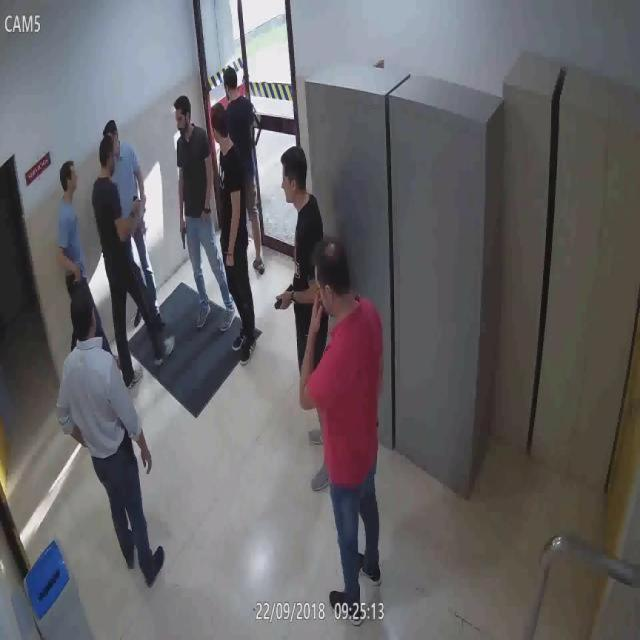pistol: (272, 283, 296, 314), (121, 420, 135, 458), (178, 216, 188, 253), (70, 268, 84, 285)
